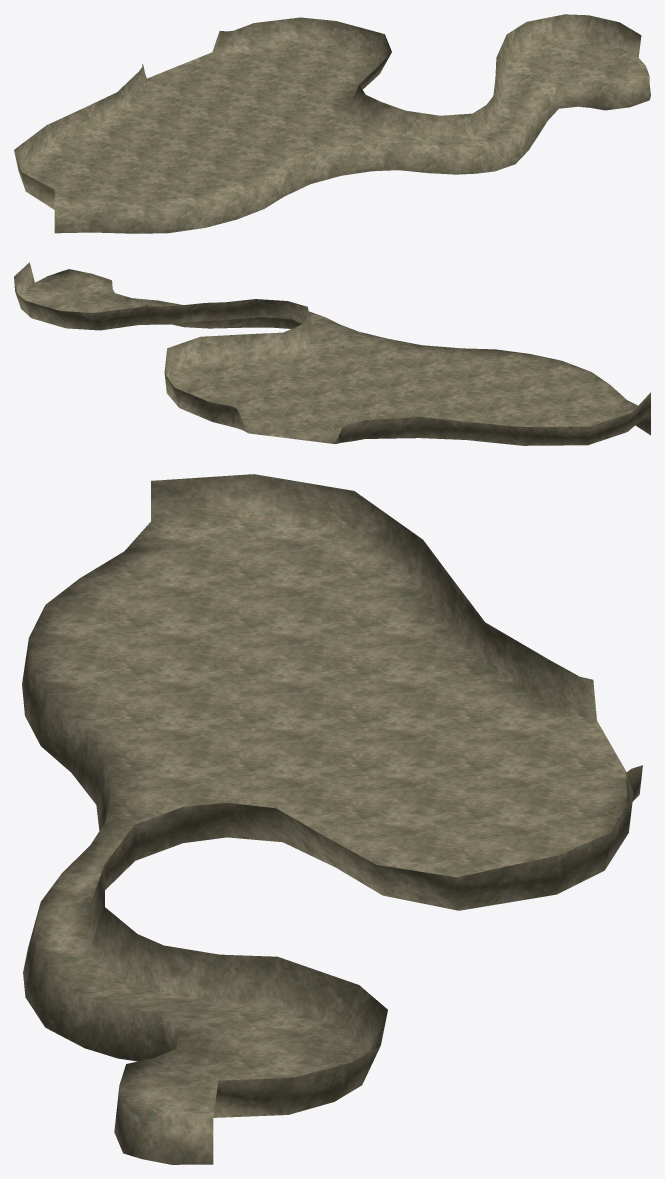
File: OVERHILL_A_01_OBJECT146.fbx
3 renders of one model, top to bottom at view 1: azimuth 30°, elevation 25°; view 2: azimuth 150°, elevation 25°; view 3: azimuth 270°, elevation 25°, orthographic. The views are drawn at different scales.
Visible parts, largest first — view 1: OVERHILL_A_01_OBJECT146; view 2: OVERHILL_A_01_OBJECT146; view 3: OVERHILL_A_01_OBJECT146.
Part boxes in pixels (x1,y1,x2,y2): OVERHILL_A_01_OBJECT146: (14, 14, 650, 233); OVERHILL_A_01_OBJECT146: (14, 262, 650, 445); OVERHILL_A_01_OBJECT146: (22, 474, 642, 1164).
Bounding box in the file's own units: 249656 × 24169 × 109926.
Materials: 2 (2 with a texture image).
